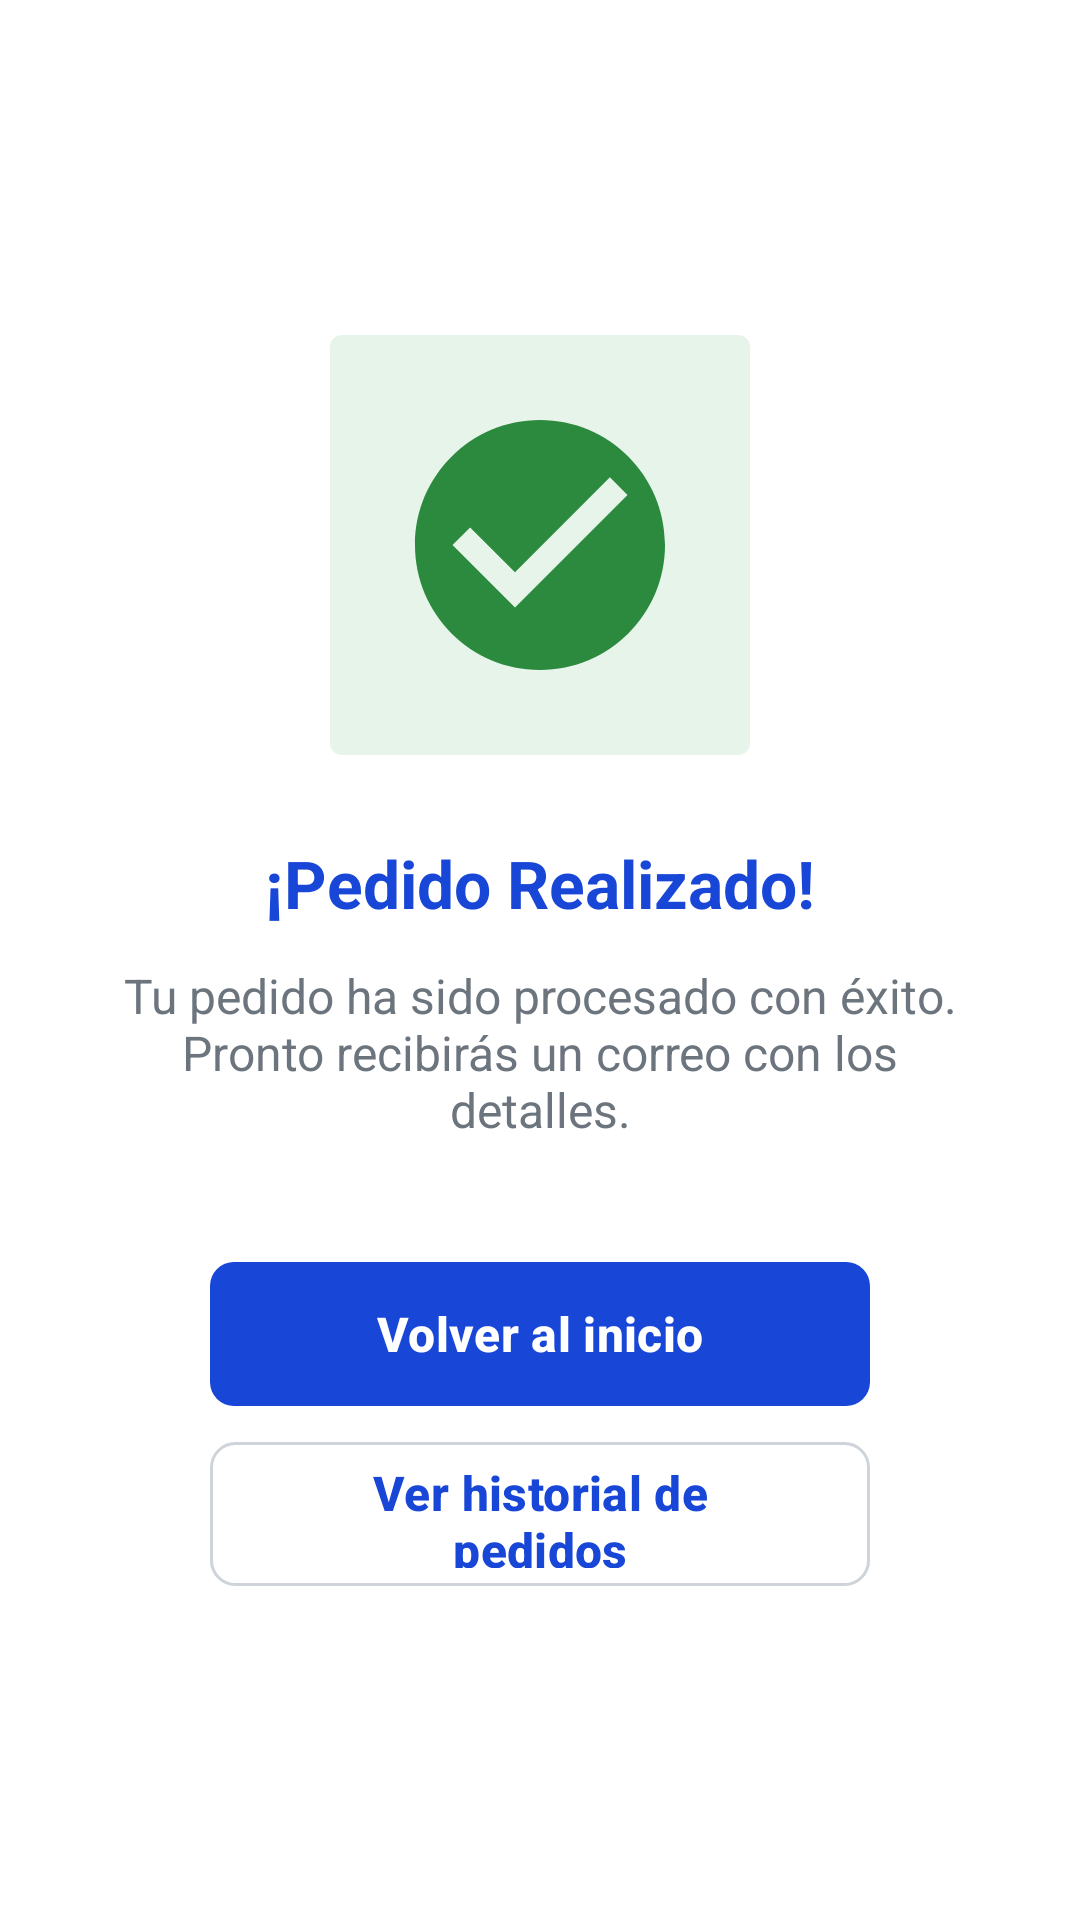

Icons on this 1080×1920 Android screen, each with its box as box(x1, y1, x2, y2):
Pedido Confirmado: box(415, 420, 665, 670)
